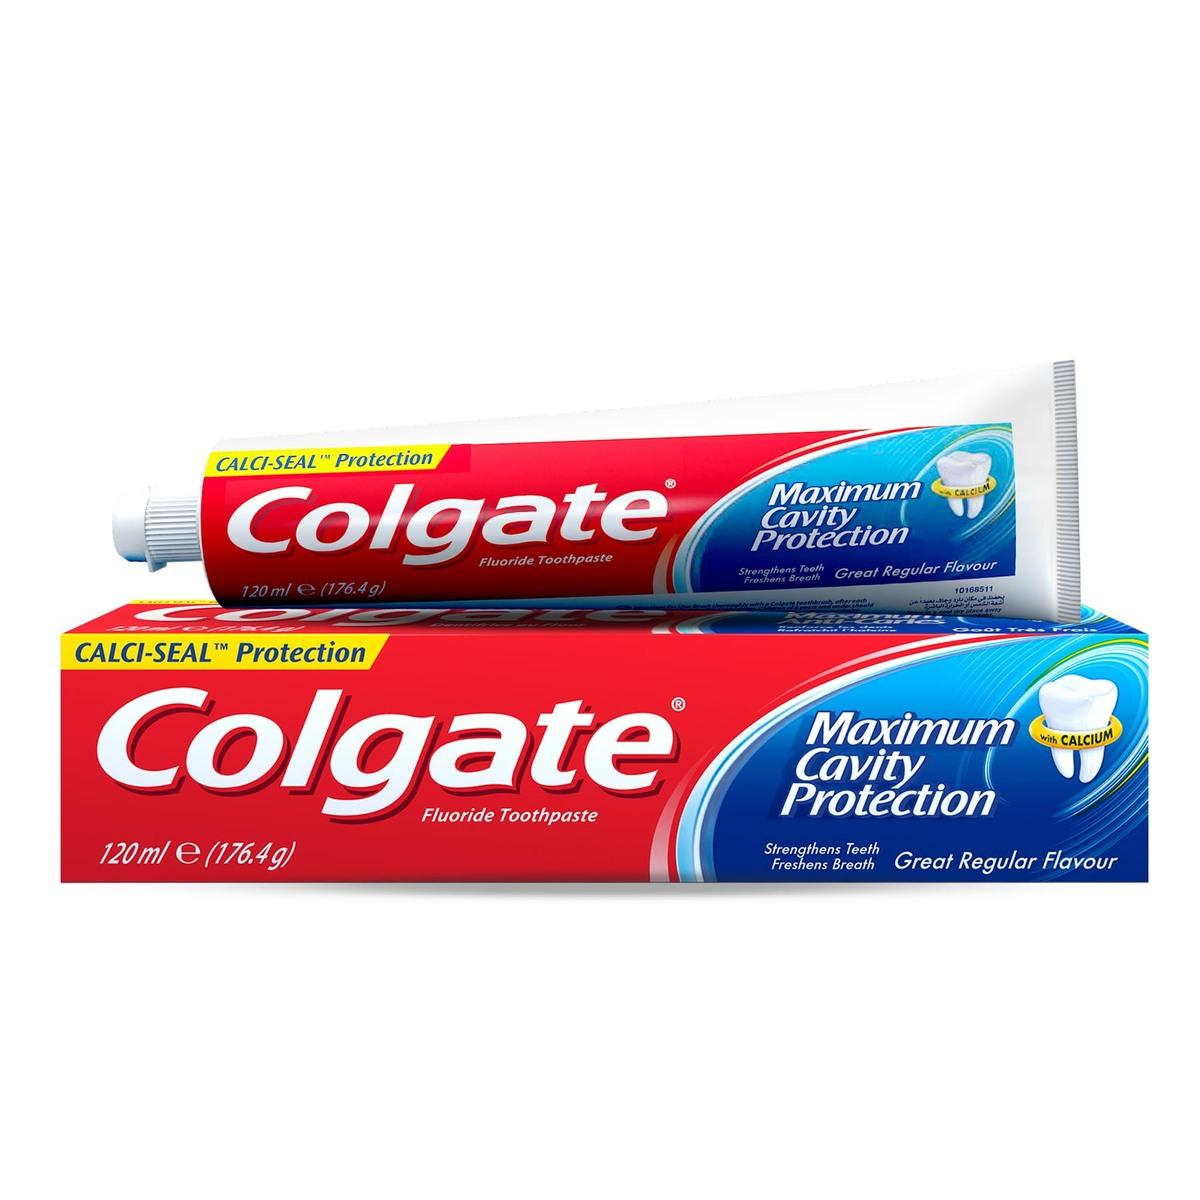Colgate: (57, 598, 1151, 882)
